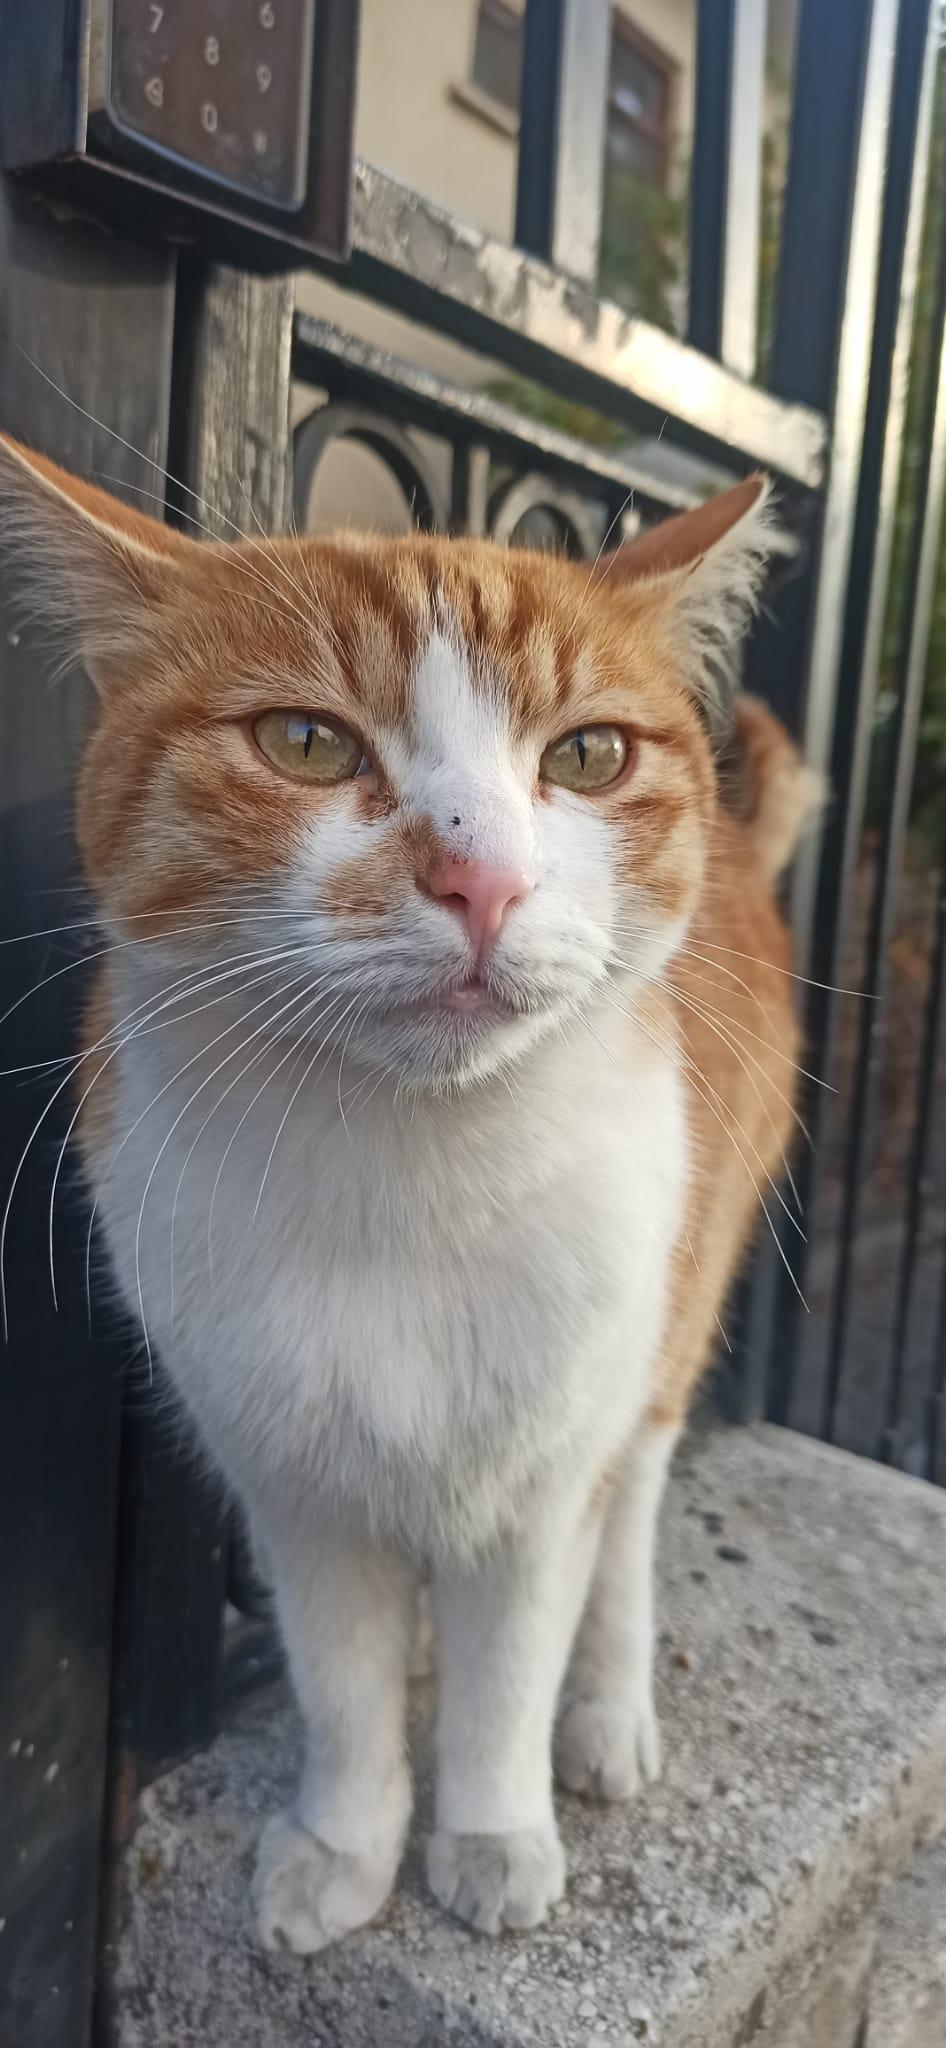kedo: (4, 434, 806, 1951)
